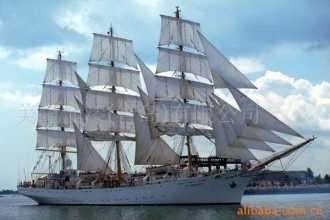fanchuan: (14, 8, 317, 206)
